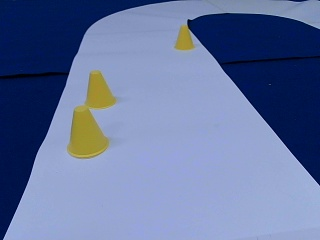cone: (67, 107, 108, 157), (83, 70, 116, 107), (174, 25, 194, 50)
